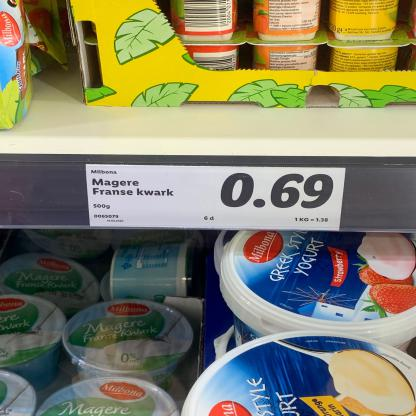prtg: (87, 165, 348, 231)
